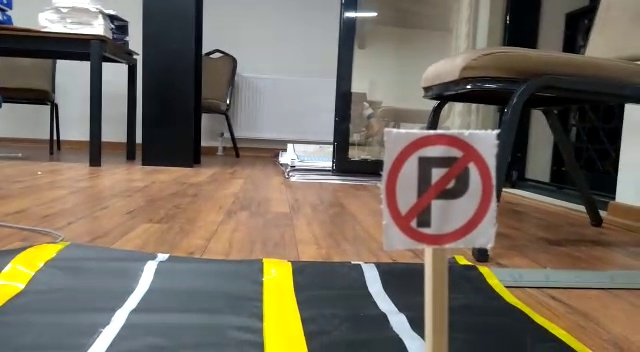park_yapilmaz: (383, 131, 494, 249)
